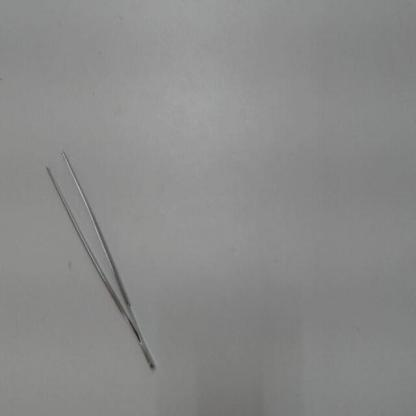Gillies Toothed Dissector: (40, 128, 166, 383)
